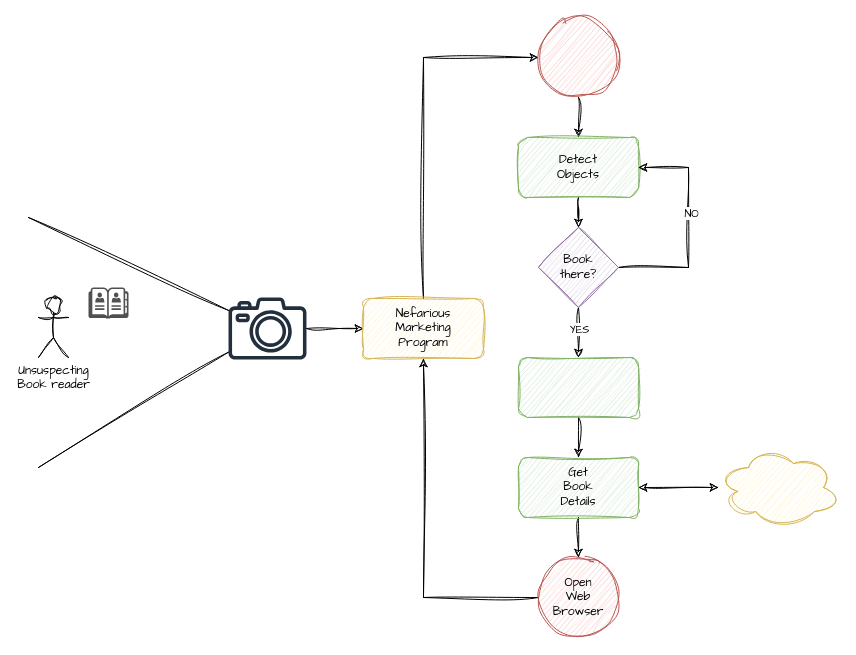
Some shapes in this 856 by 655 pixel diagram are drawn without their labels. The centre of each missing label's shape, as x and y in pixels:
"Begin" goes at pixel 578 57.
"Crop out book" goes at pixel 578 387.
"Llava (via Ollama)" goes at pixel 778 487.
